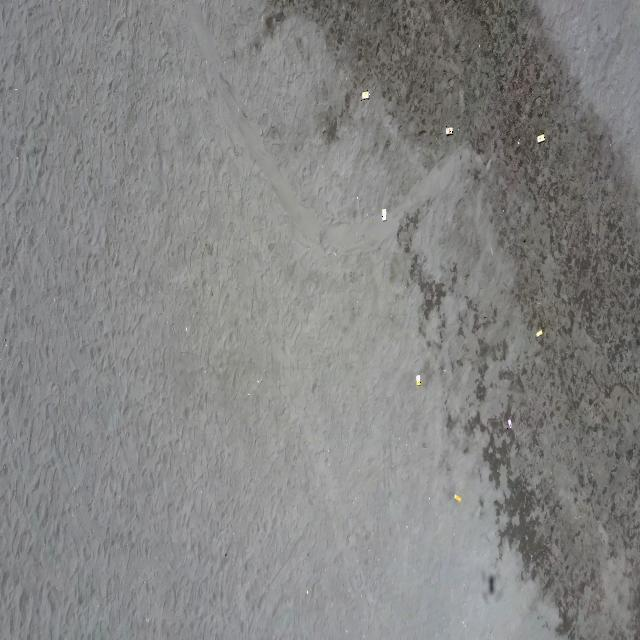Garbage: (488, 575, 493, 592), (416, 373, 422, 386), (536, 132, 544, 141), (380, 208, 386, 220), (360, 89, 367, 99), (453, 493, 460, 502), (536, 328, 543, 336), (444, 127, 452, 134), (507, 417, 512, 427)
